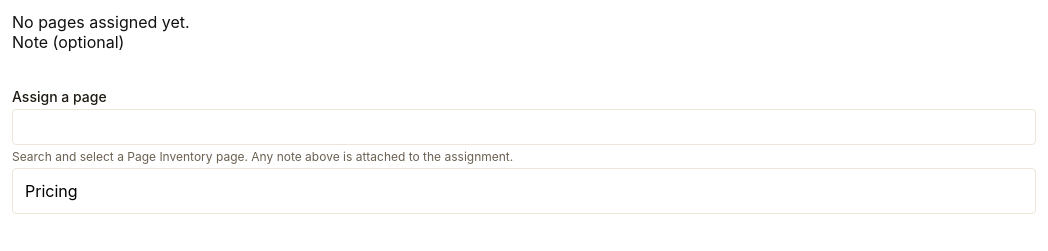
Test: KeywordPageAssignmentsSection › shows the backend's error message when assigning fails
Step 1. Type "Pricing" into the dropdown labelled "Assign a page" → (524, 127), box x1=12 y1=109 x2=1036 y2=145
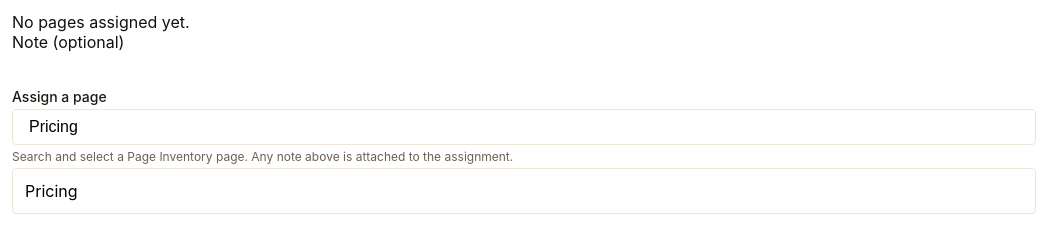
Step 2. Click the button "Pricing" → (51, 191), box x1=17 y1=173 x2=1031 y2=209
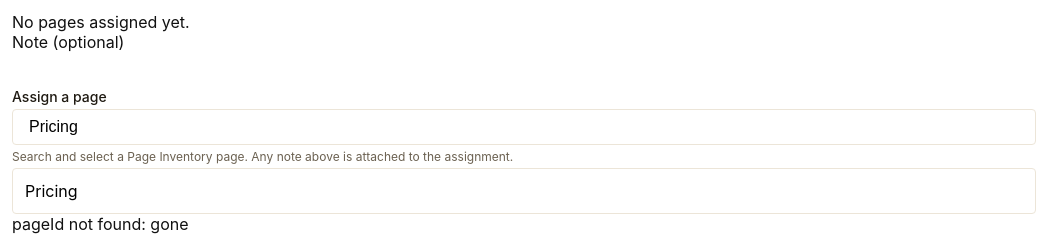
Result: the message reads "pageId not found: gone" at x1=12 y1=214 x2=188 y2=234
